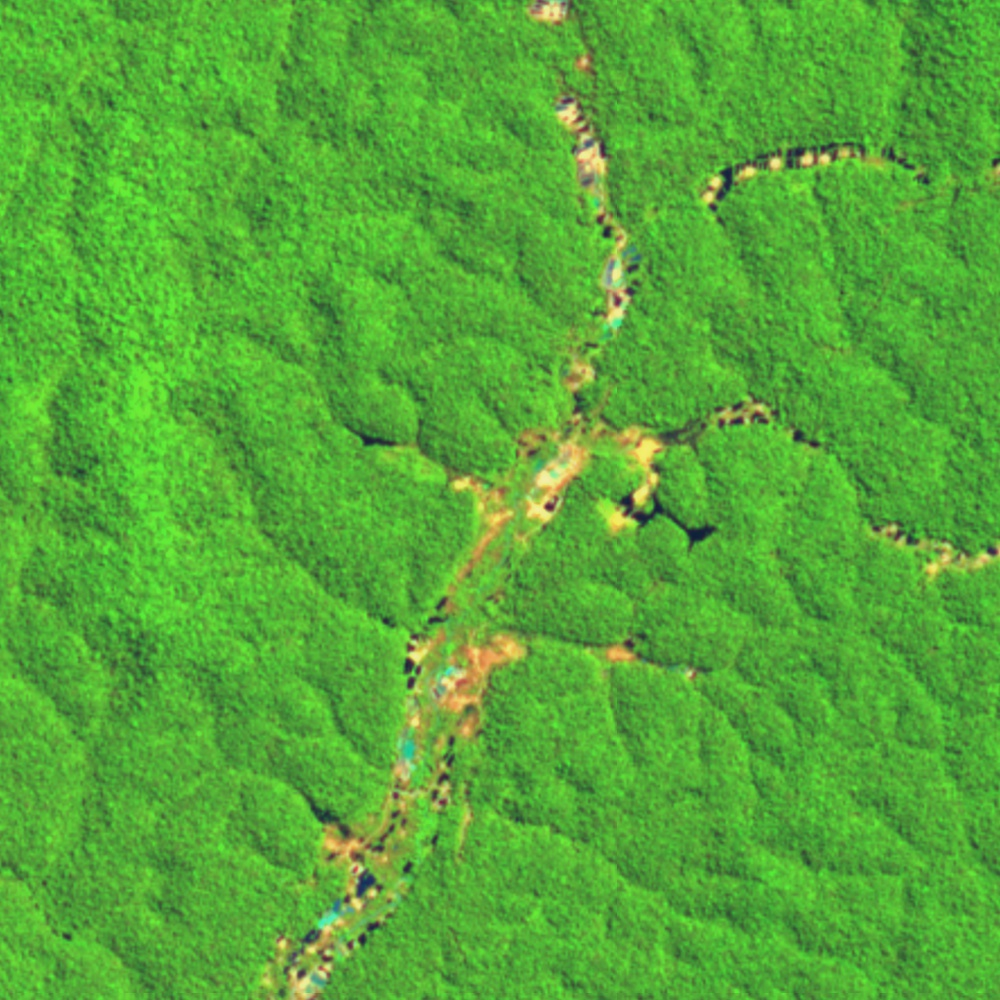illegal: (341, 389, 1000, 577), (251, 779, 490, 1000), (546, 70, 647, 400), (381, 577, 528, 777), (690, 136, 937, 234), (484, 624, 718, 684), (520, 1, 601, 78), (984, 156, 1000, 185)
